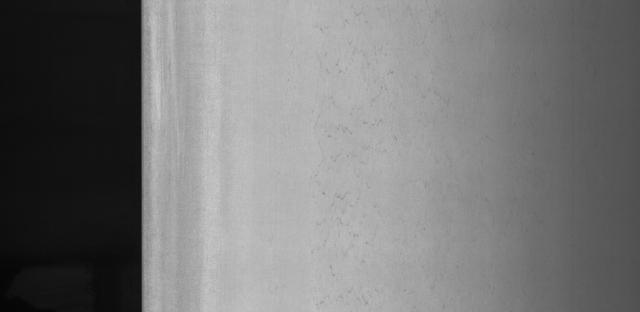silk_spot: (291, 18, 428, 312)
